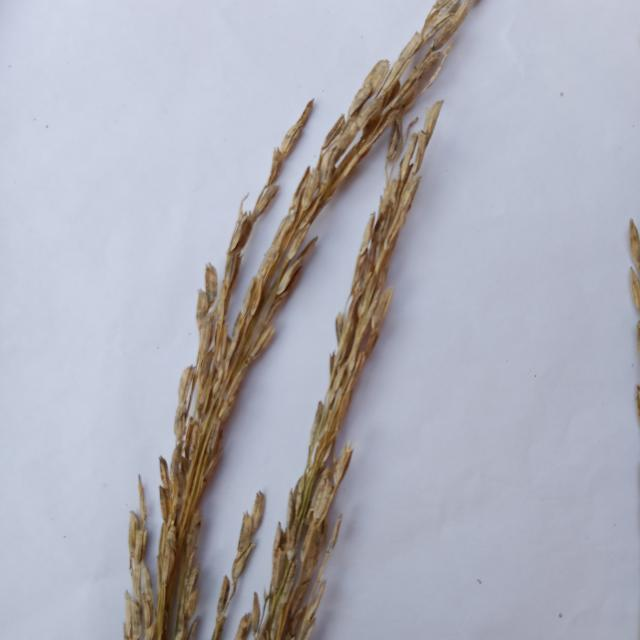Neck_Blast: (127, 1, 488, 639), (237, 100, 449, 640)
